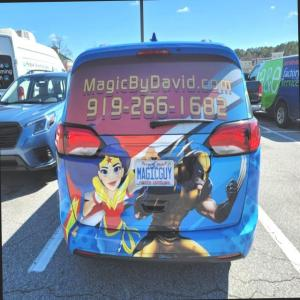Plate: (135, 159, 174, 187)
